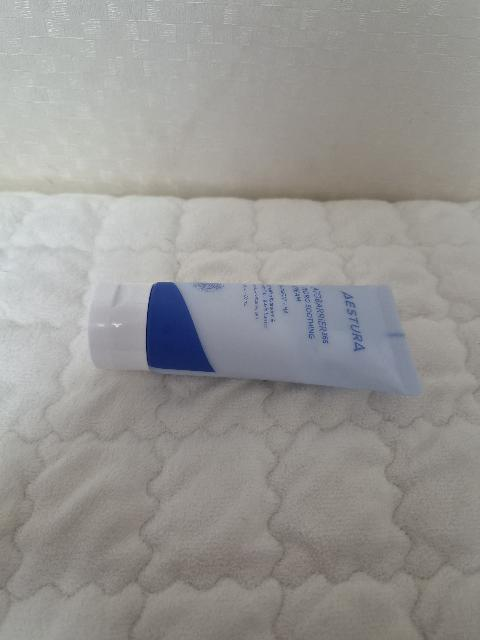handcream: (88, 281, 423, 397)
